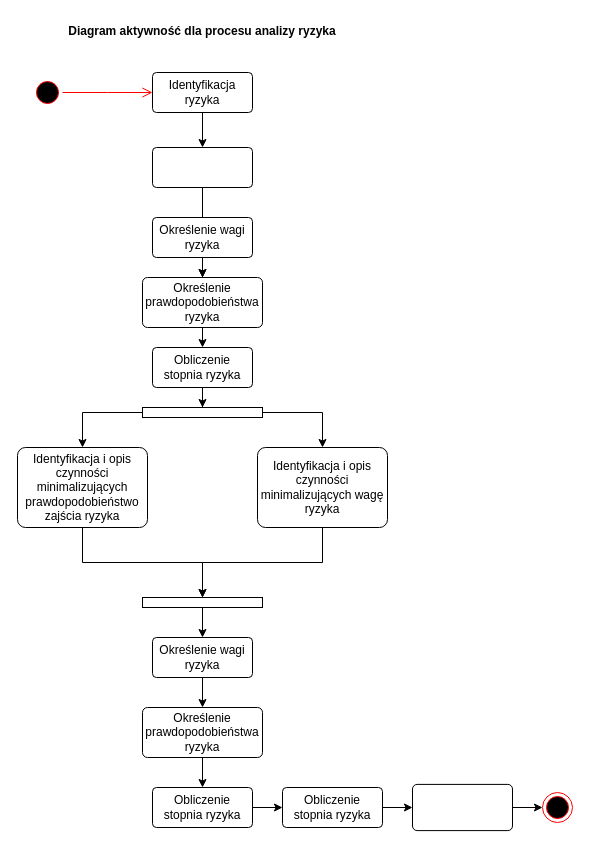
Image size: 590x848. Some labels were removed from this diagram. Here are the shapes that lost their labels. From the top down, the box of each, then its label:
(152, 146, 252, 188): Opis ryzyka
(412, 783, 512, 831): Określenie zasad monitorowania ryzyka
